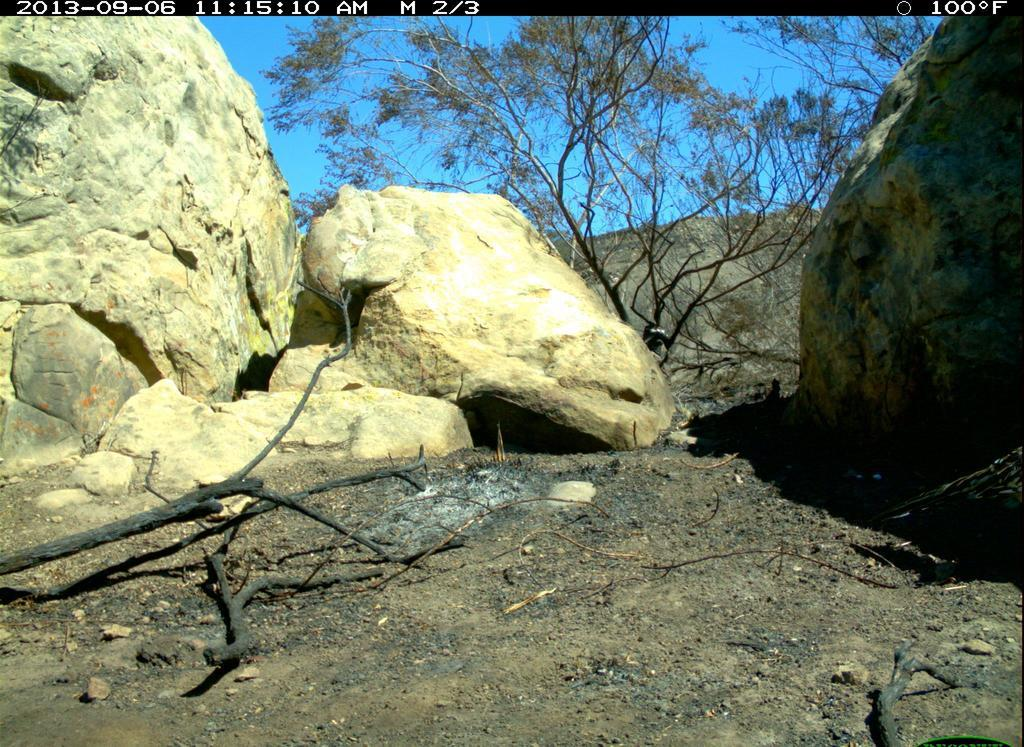bird: (863, 444, 1024, 537)
